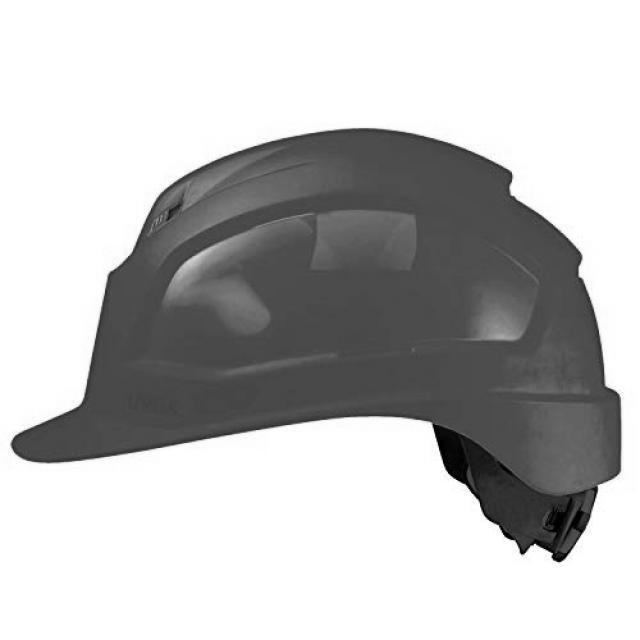safety_helmet: (9, 128, 625, 564)
